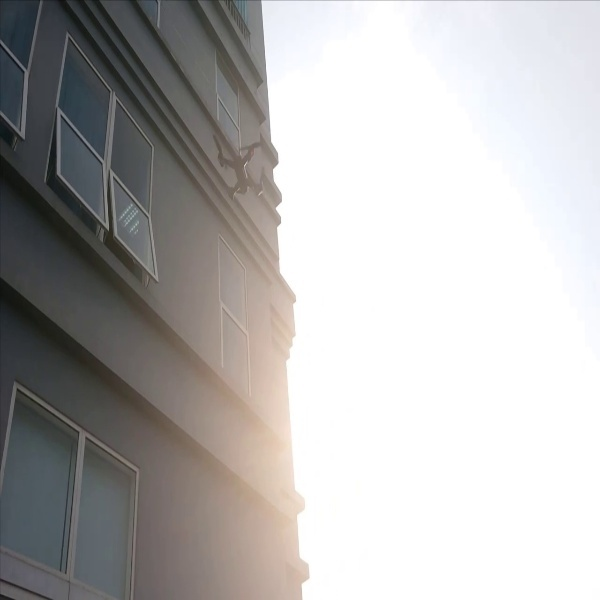drone: (204, 125, 283, 209)
